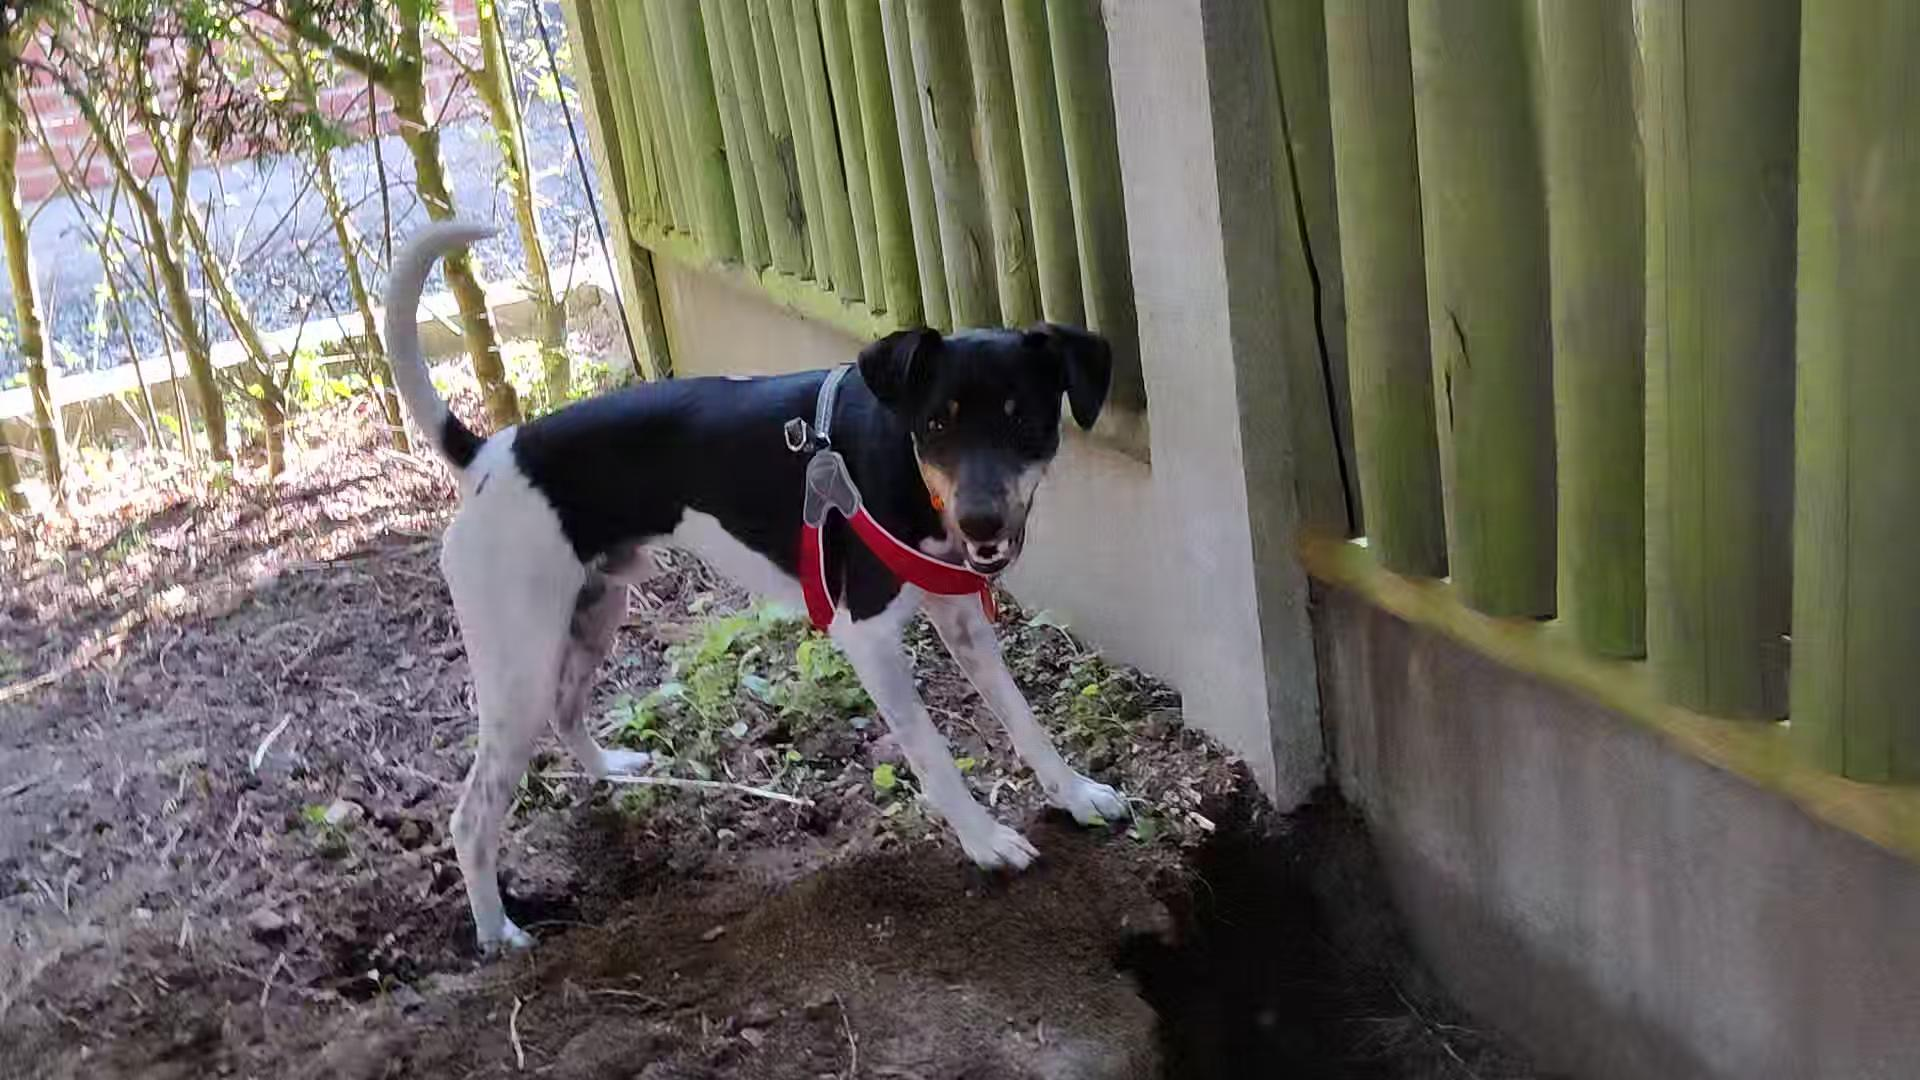Dog: (363, 178, 1164, 967)
